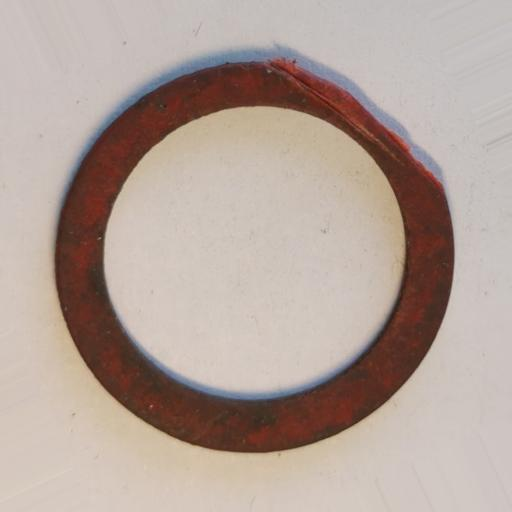defect: (264, 55, 445, 191)
